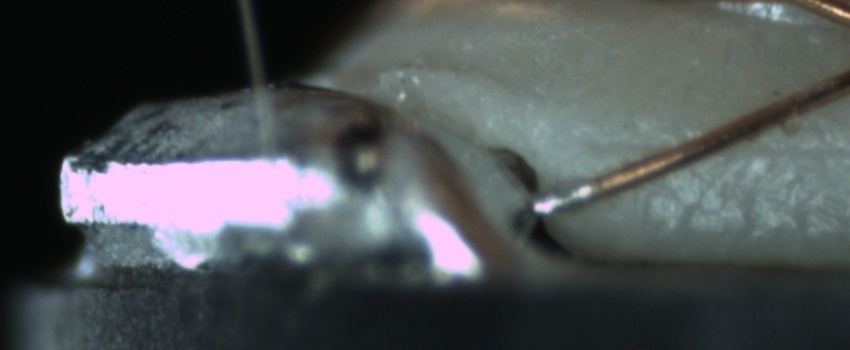DL: (605, 114, 850, 178)
TS: (528, 182, 595, 216)
